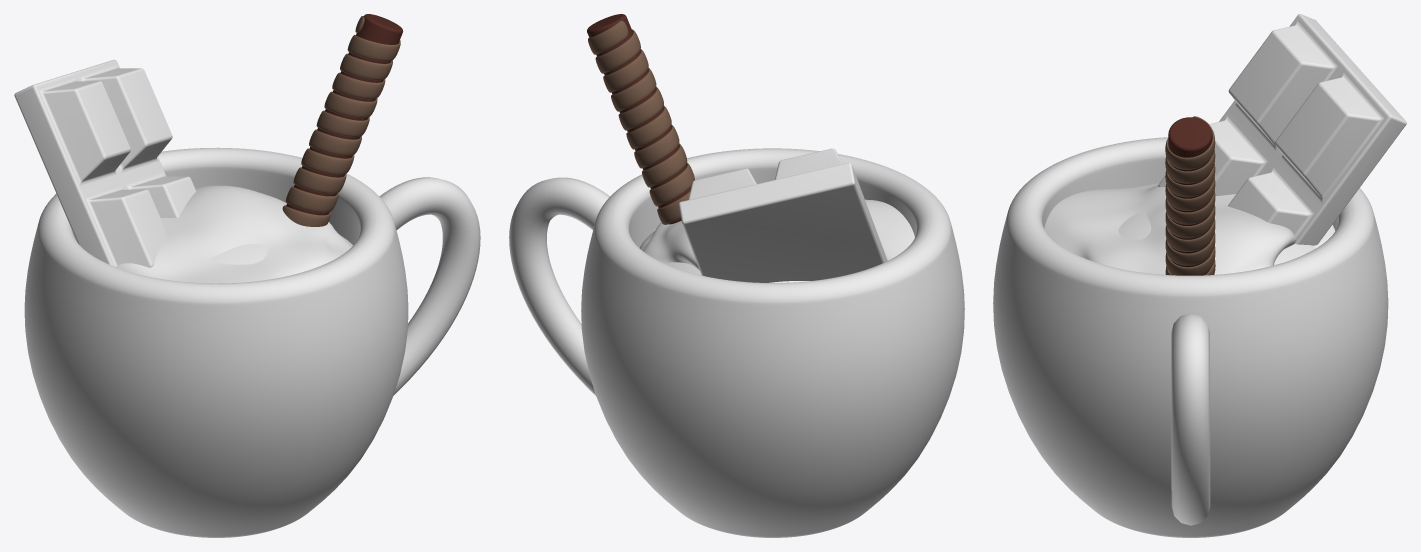
File: hot chocolate.fbx
3 renders of one model, left to right at view 1: azimuth 30°, elevation 25°; view 2: azimuth 150°, elevation 25°; view 3: azimuth 270°, elevation 25°, orthographic. The views are drawn at different scales.
Parts seen in each view (by area): view 1: Cylinder, Plane, Cube, NurbsPath, Circle, Cylinder.001, Sphere; view 2: Cylinder, Plane, NurbsPath, Circle, Cube, Cylinder.001; view 3: Cylinder, Plane, Cube, NurbsPath, Circle, Cylinder.001, Sphere.
Boxes of the visible parts, x1=… form: Cylinder: x1=24, y1=147, x2=408, y2=537; Plane: x1=14, y1=59, x2=196, y2=267; Cube: x1=116, y1=185, x2=352, y2=283; NurbsPath: x1=379, y1=177, x2=480, y2=395; Circle: x1=282, y1=16, x2=400, y2=226; Cylinder.001: x1=286, y1=14, x2=403, y2=215; Sphere: x1=210, y1=244, x2=267, y2=264; Cylinder: x1=581, y1=148, x2=964, y2=537; Plane: x1=678, y1=148, x2=887, y2=282; NurbsPath: x1=509, y1=177, x2=609, y2=395; Circle: x1=588, y1=20, x2=694, y2=224; Cube: x1=639, y1=199, x2=914, y2=282; Cylinder.001: x1=587, y1=14, x2=691, y2=224; Cylinder: x1=993, y1=137, x2=1388, y2=537; Plane: x1=1158, y1=14, x2=1406, y2=245; Cube: x1=1044, y1=182, x2=1335, y2=274; NurbsPath: x1=1171, y1=313, x2=1210, y2=525; Circle: x1=1165, y1=116, x2=1215, y2=275; Cylinder.001: x1=1168, y1=117, x2=1212, y2=275; Sphere: x1=1118, y1=212, x2=1315, y2=265.
Bounding box in the file's own units: 604 × 602 × 491.
